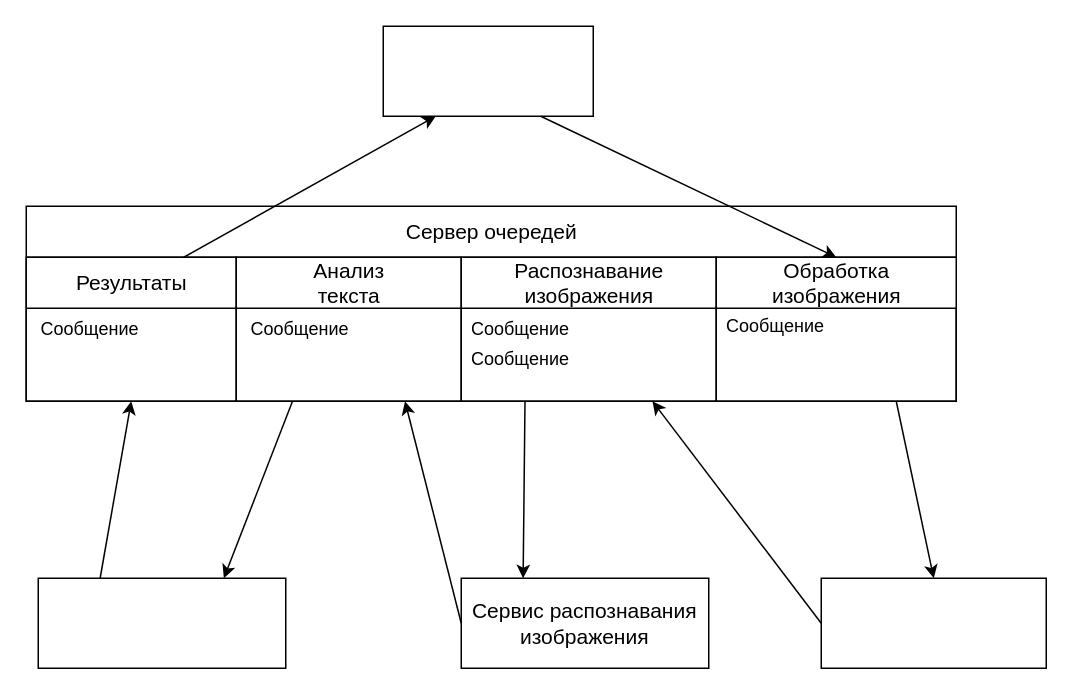
The diagram is 1073 pixels wide and 695 high, and some of its shapes have lost their labels. The shapes that lost their labels are listed below. From the top down, each one's centre as x and y in pixels, then its label:
At (487,70): "Пользовательское приложение".
At (161,622): "Сервис анализа текста".
At (933,622): "Сервис обработки изображения".
